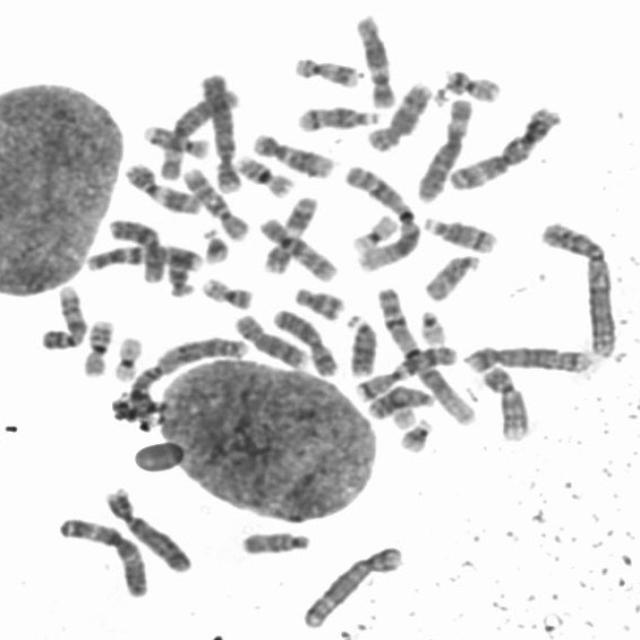A1: (369, 280, 477, 427), (340, 160, 422, 274)
A2: (129, 330, 252, 434), (534, 214, 620, 359)
A3: (446, 100, 566, 192), (52, 511, 152, 599)
B4: (100, 480, 196, 575), (195, 65, 245, 195)
B5: (296, 540, 406, 630), (458, 338, 596, 375)
C10: (255, 212, 340, 282), (178, 162, 252, 242)
C11: (258, 190, 321, 275), (121, 157, 207, 216)
C12: (351, 8, 400, 110), (246, 126, 336, 179)
C6: (153, 80, 243, 182), (412, 92, 477, 203)
C7: (351, 340, 460, 402), (80, 238, 208, 274)
C8: (360, 76, 435, 154), (229, 309, 310, 370)
C9: (477, 360, 533, 442), (35, 280, 90, 352)
D13: (365, 380, 436, 422), (341, 309, 381, 378)
D14: (419, 209, 502, 255), (291, 100, 381, 133)
D15: (418, 248, 483, 303), (236, 525, 314, 557)
E16: (231, 149, 297, 198), (77, 314, 116, 378)
E17: (137, 120, 210, 159), (290, 51, 364, 89)
E18: (290, 281, 349, 321), (163, 250, 196, 299)
F19: (346, 209, 399, 254), (109, 331, 145, 383)
F20: (439, 63, 503, 104), (196, 271, 256, 311)
G21: (393, 414, 435, 454), (198, 224, 234, 265)
G22: (414, 305, 450, 345), (391, 388, 418, 432)
X: (268, 304, 341, 377), (104, 212, 169, 284)
